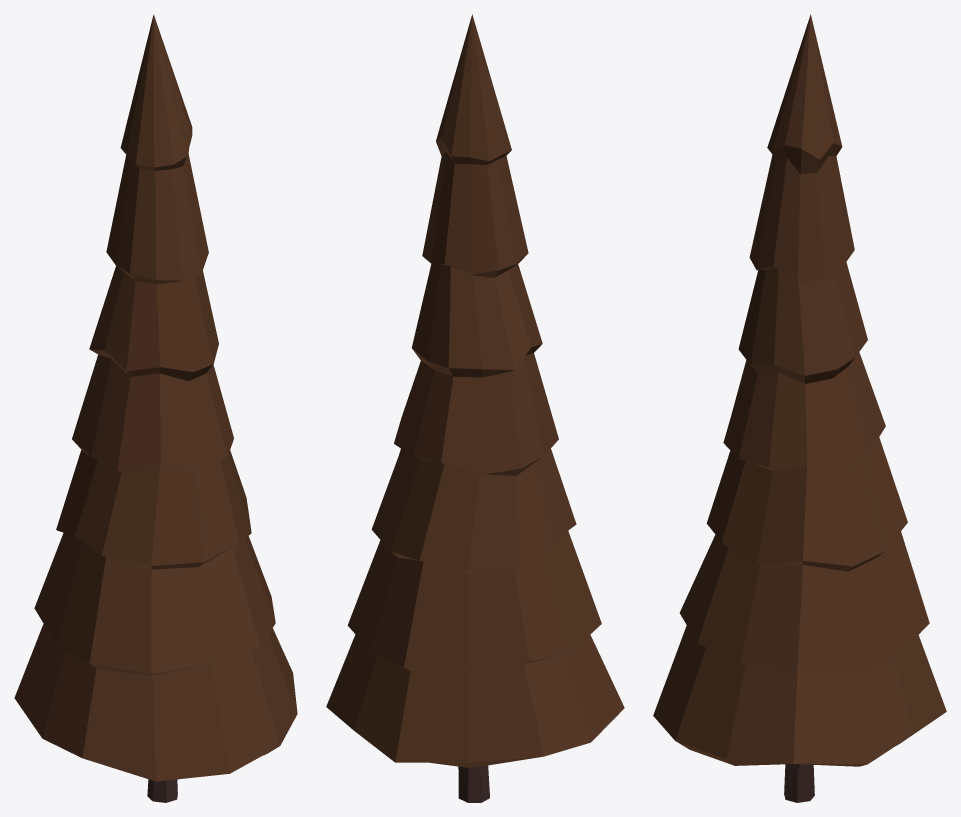
File: SM_Fir_03.fbx
The picture shows the model from 3 angles, left to right: view 1: azimuth 30°, elevation 25°; view 2: azimuth 150°, elevation 25°; view 3: azimuth 270°, elevation 25°; orthographic projection.
Parts seen in each view (by area): view 1: SM_Fir_03; view 2: SM_Fir_03; view 3: SM_Fir_03.
Boxes of the visible parts, box(x1,y1,x2,y2) form: SM_Fir_03: box(14, 14, 297, 802); SM_Fir_03: box(326, 14, 624, 802); SM_Fir_03: box(653, 14, 946, 802).
Bounding box in the file's own units: 660 × 2004 × 684.
